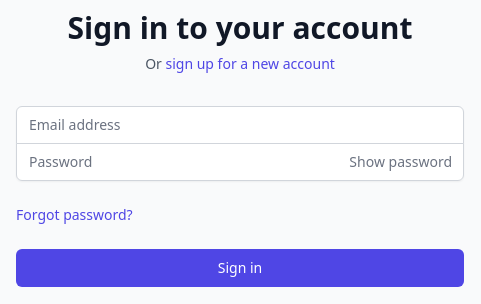
Login Page Component › should show loading state during submission
Type "test@example.com" into the field labelled "Email address" at (240, 124), box 16,106 -> 464,144
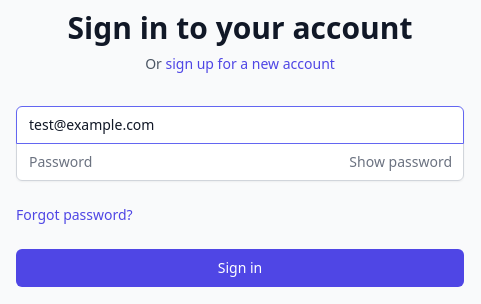
Type "Password123!" into the password field labelled "Password" at (240, 162), box 16,142 -> 464,180
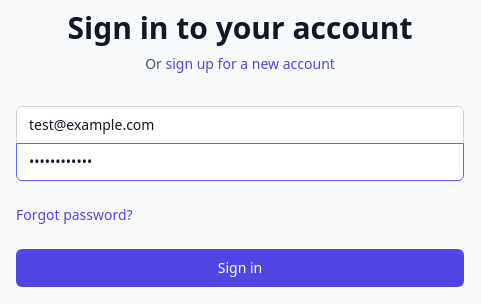
Click the button "Sign in" at (240, 268), box 16,248 -> 464,286
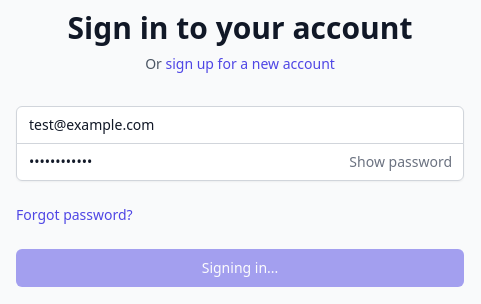
expect the button "Signing in..." is disabled: met, box 16,248 -> 464,286
